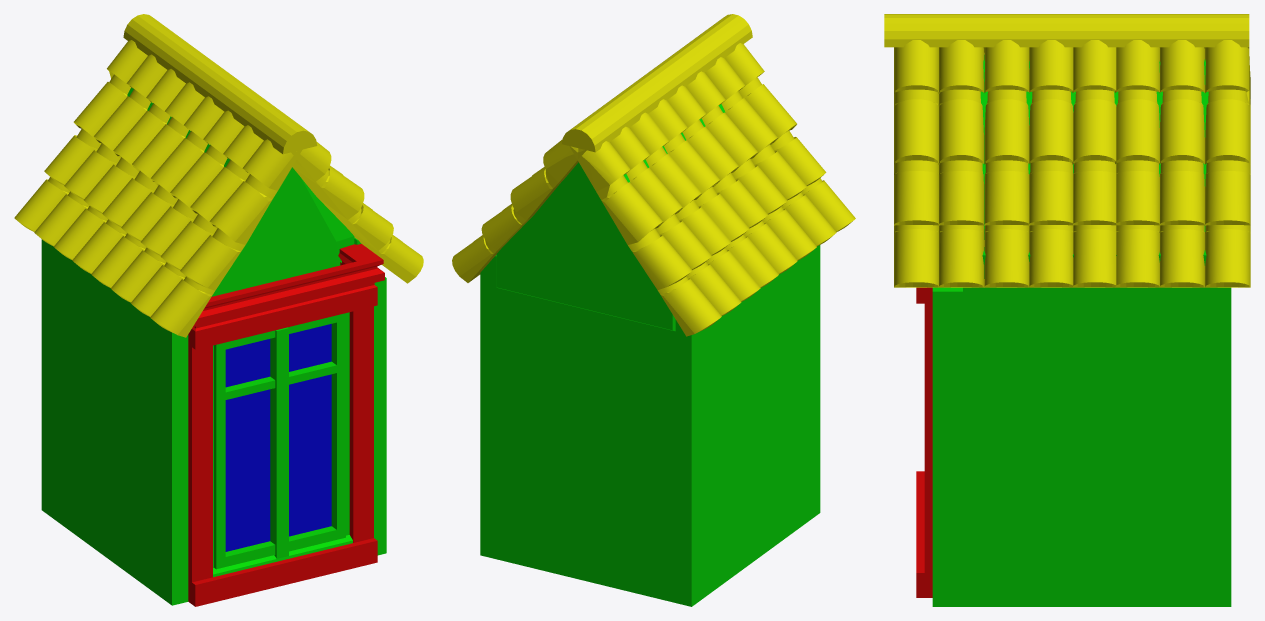
File: RoofWindow01_Nice.fbx
3 renders of one model, left to right at view 1: azimuth 30°, elevation 25°; view 2: azimuth 150°, elevation 25°; view 3: azimuth 270°, elevation 25°, orthographic. The views are drawn at different scales.
Parts seen in each view (by area): view 1: RoofWindow1; view 2: RoofWindow1; view 3: RoofWindow1.
Part boxes in pixels (x1,y1,x2,y2): RoofWindow1: [14, 14, 423, 606]; RoofWindow1: [452, 14, 855, 606]; RoofWindow1: [884, 14, 1250, 606].
Bounding box in the file's own units: 147 × 243 × 152.
